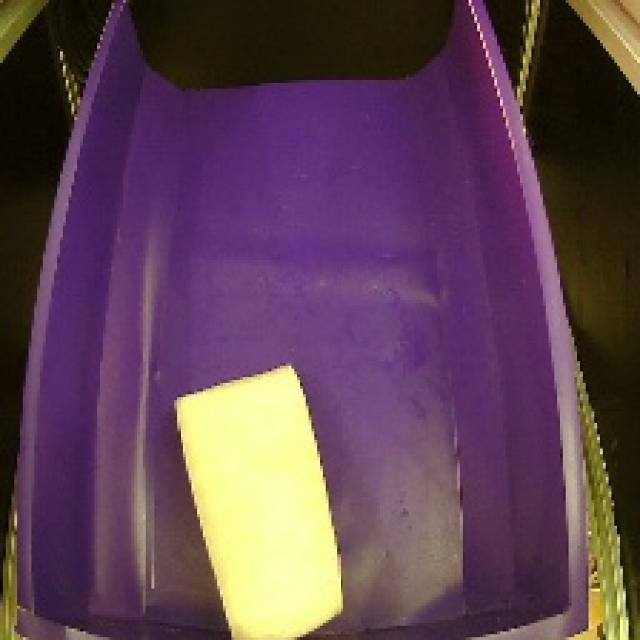white_radish: (166, 356, 350, 640)
